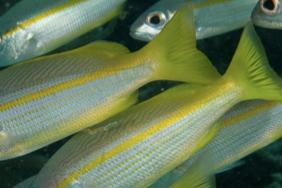Lutjanidae -Snappers-: (19, 15, 282, 188), (0, 0, 223, 164)
